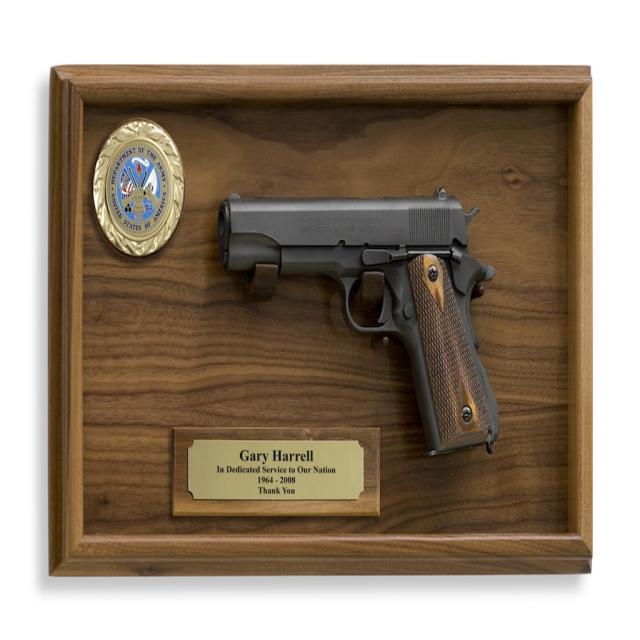HandGun: (217, 191, 496, 452)
